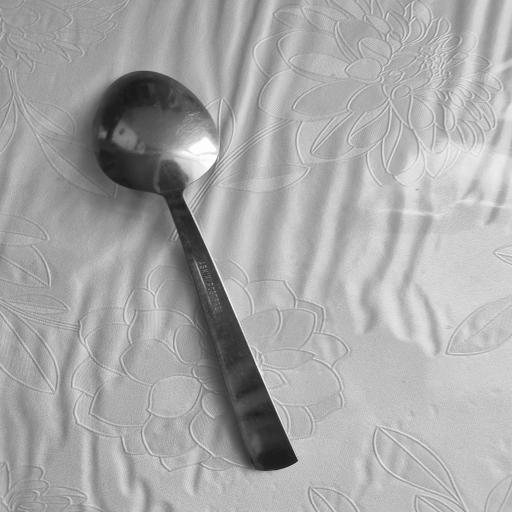spoon: (93, 67, 301, 476)
